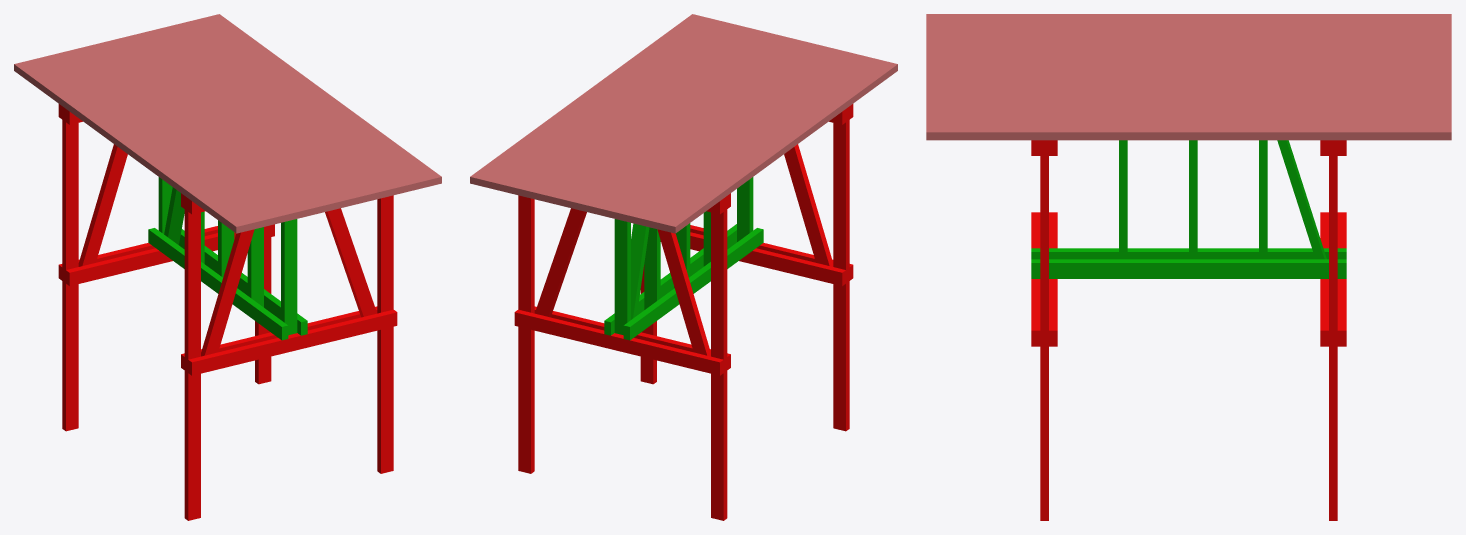
Rendered from result.glb.
3 renders of one model, left to right at view 1: azimuth 30°, elevation 25°; view 2: azimuth 150°, elevation 25°; view 3: azimuth 270°, elevation 25°, orthographic. The views are drawn at different scales.
Parts seen in each view (by area): view 1: 5fc8e145-9173-4f53-9e16-9cb04d5cb592__sideV, e032abb3-64a6-46db-85e1-ba267a0f0d6a__undefined, 825f65f6-793a-4ca5-8f3a-a6c2a1bc8ec3__Box, 6b433475-14ce-469c-82ad-de1b29a32f1d__sideV, c03ab156-fd1d-4fb7-b50e-9767de4c8d58__sideH, d7bbae1c-82a2-4bcf-8e42-20c8fa447593__undefined, 1e117310-a68f-4417-bd17-8bd29992a667__undefined, a35f558b-8143-4b87-b175-79917a403f79__undefined, 122608d7-6a25-4424-8b73-a82cb54c81ab__undefined, 4f04a124-4a39-47cf-ba4a-0e776baa54e0__undefined, 2ba94c8f-1f08-4f91-9f4c-a31cd6ebdc67__undefined, 6ec0b6c8-0a84-4693-b380-fa4d5fa6dfbf__undefined (+22 smaller); view 2: e032abb3-64a6-46db-85e1-ba267a0f0d6a__undefined, 5fc8e145-9173-4f53-9e16-9cb04d5cb592__sideV, 825f65f6-793a-4ca5-8f3a-a6c2a1bc8ec3__Box, 60e91019-19a6-4388-af8a-e58824e03b97__undefined, 3cb2565a-ee04-4b75-a767-e4fbe89c5c97__undefined, d7bbae1c-82a2-4bcf-8e42-20c8fa447593__undefined, 1e117310-a68f-4417-bd17-8bd29992a667__undefined, a35f558b-8143-4b87-b175-79917a403f79__undefined, 122608d7-6a25-4424-8b73-a82cb54c81ab__undefined, 4f04a124-4a39-47cf-ba4a-0e776baa54e0__undefined, 2ba94c8f-1f08-4f91-9f4c-a31cd6ebdc67__undefined, 6ec0b6c8-0a84-4693-b380-fa4d5fa6dfbf__undefined (+22 smaller); view 3: de754873-d608-4e75-bfe6-01b9bcf669ec__undefined, 854668af-ba69-4e17-9193-7328ef11ae2c__strutH, 64018fd2-b237-47ca-a4bc-8e3565829b7f__undefined, a35f558b-8143-4b87-b175-79917a403f79__undefined, 825f65f6-793a-4ca5-8f3a-a6c2a1bc8ec3__Box, 2ba94c8f-1f08-4f91-9f4c-a31cd6ebdc67__undefined, 2d820b8b-982e-489c-ac5d-abbdef5dd72a__undefined, 6d5b2daf-21b9-4982-ac50-1d0ace2e7b5d__undefined, 4f04a124-4a39-47cf-ba4a-0e776baa54e0__undefined, d7bbae1c-82a2-4bcf-8e42-20c8fa447593__undefined, 2548756c-a8bb-4e31-8cd7-8e5bb8268b81__undefined, 72dcde7c-619a-480f-bb90-90de88d13d54__undefined (+16 smaller).
Part boxes in pixels (<box>): 5fc8e145-9173-4f53-9e16-9cb04d5cb592__sideV: <box>184,196,200,520</box>; e032abb3-64a6-46db-85e1-ba267a0f0d6a__undefined: <box>62,106,78,431</box>; 825f65f6-793a-4ca5-8f3a-a6c2a1bc8ec3__Box: <box>14,61,249,233</box>; 6b433475-14ce-469c-82ad-de1b29a32f1d__sideV: <box>377,195,393,473</box>; c03ab156-fd1d-4fb7-b50e-9767de4c8d58__sideH: <box>188,309,397,375</box>; d7bbae1c-82a2-4bcf-8e42-20c8fa447593__undefined: <box>91,42,326,214</box>; 1e117310-a68f-4417-bd17-8bd29992a667__undefined: <box>181,20,416,192</box>; a35f558b-8143-4b87-b175-79917a403f79__undefined: <box>104,39,339,211</box>; 122608d7-6a25-4424-8b73-a82cb54c81ab__undefined: <box>168,23,403,195</box>; 4f04a124-4a39-47cf-ba4a-0e776baa54e0__undefined: <box>78,45,313,217</box>; 2ba94c8f-1f08-4f91-9f4c-a31cd6ebdc67__undefined: <box>27,58,262,230</box>; 6ec0b6c8-0a84-4693-b380-fa4d5fa6dfbf__undefined: <box>156,26,390,198</box>; e032abb3-64a6-46db-85e1-ba267a0f0d6a__undefined: <box>711,196,727,520</box>; 5fc8e145-9173-4f53-9e16-9cb04d5cb592__sideV: <box>833,106,849,431</box>; 825f65f6-793a-4ca5-8f3a-a6c2a1bc8ec3__Box: <box>662,61,897,233</box>; 60e91019-19a6-4388-af8a-e58824e03b97__undefined: <box>518,195,534,473</box>; 3cb2565a-ee04-4b75-a767-e4fbe89c5c97__undefined: <box>514,309,723,375</box>; d7bbae1c-82a2-4bcf-8e42-20c8fa447593__undefined: <box>585,42,820,214</box>; 1e117310-a68f-4417-bd17-8bd29992a667__undefined: <box>495,20,730,192</box>; a35f558b-8143-4b87-b175-79917a403f79__undefined: <box>572,39,807,211</box>; 122608d7-6a25-4424-8b73-a82cb54c81ab__undefined: <box>508,23,743,195</box>; 4f04a124-4a39-47cf-ba4a-0e776baa54e0__undefined: <box>598,45,833,217</box>; 2ba94c8f-1f08-4f91-9f4c-a31cd6ebdc67__undefined: <box>649,58,884,230</box>; 6ec0b6c8-0a84-4693-b380-fa4d5fa6dfbf__undefined: <box>521,26,755,198</box>; de754873-d608-4e75-bfe6-01b9bcf669ec__undefined: <box>926,125,1451,140</box>; 854668af-ba69-4e17-9193-7328ef11ae2c__strutH: <box>1031,259,1346,278</box>; 64018fd2-b237-47ca-a4bc-8e3565829b7f__undefined: <box>926,28,1451,36</box>; a35f558b-8143-4b87-b175-79917a403f79__undefined: <box>926,65,1451,73</box>; 825f65f6-793a-4ca5-8f3a-a6c2a1bc8ec3__Box: <box>926,14,1451,21</box>; 2ba94c8f-1f08-4f91-9f4c-a31cd6ebdc67__undefined: <box>926,21,1451,28</box>; 2d820b8b-982e-489c-ac5d-abbdef5dd72a__undefined: <box>926,36,1451,43</box>; 6d5b2daf-21b9-4982-ac50-1d0ace2e7b5d__undefined: <box>926,43,1451,50</box>; 4f04a124-4a39-47cf-ba4a-0e776baa54e0__undefined: <box>926,51,1451,58</box>; d7bbae1c-82a2-4bcf-8e42-20c8fa447593__undefined: <box>926,58,1451,65</box>; 2548756c-a8bb-4e31-8cd7-8e5bb8268b81__undefined: <box>926,73,1451,80</box>; 72dcde7c-619a-480f-bb90-90de88d13d54__undefined: <box>926,80,1451,87</box>.
Bounding box in the file's own units: 800 × 1225 × 1500.
